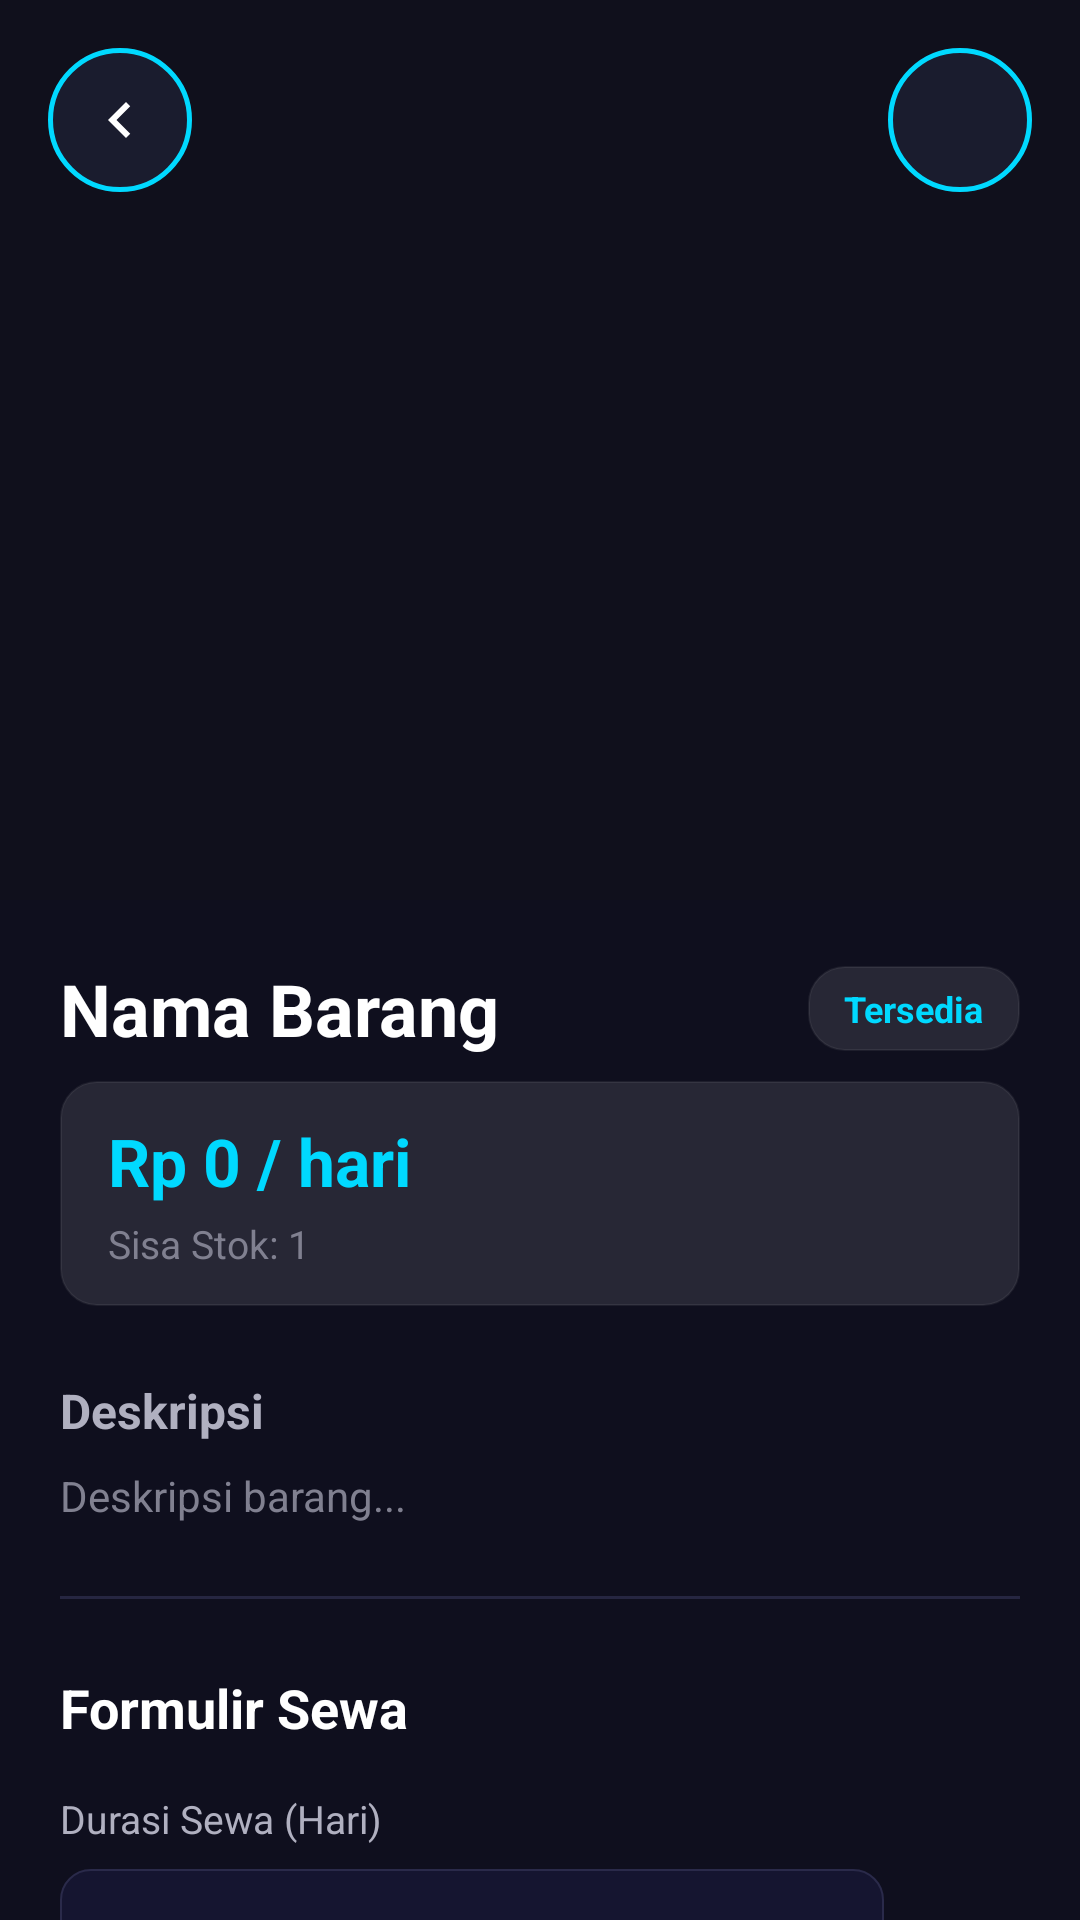

Icons on this 1080px x 1920px Android screen, each with its box as (x1, y1, x2, y2):
back arrow: (48, 48, 192, 192)
